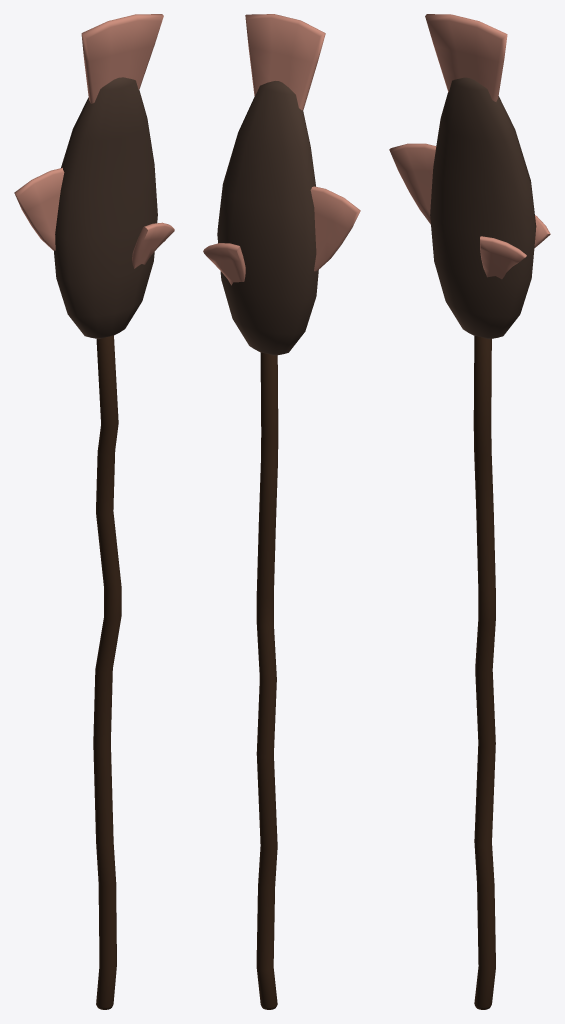
The model's file is skewered-fish.obj.
The picture shows the model from 3 angles, left to right: view 1: azimuth 30°, elevation 25°; view 2: azimuth 150°, elevation 25°; view 3: azimuth 330°, elevation 25°; orthographic projection. The views are drawn at different scales.
Visible parts, largest first — view 1: FishBody_Sphere, Stick_Cylinder.001, FishTail_Cube.001, FishFin1_Cube.002, FishFin3_Cube.004; view 2: FishBody_Sphere, Stick_Cylinder.001, FishTail_Cube.001, FishFin1_Cube.002, FishFin2_Cube.003; view 3: FishBody_Sphere, Stick_Cylinder.001, FishTail_Cube.001, FishFin1_Cube.002, FishFin3_Cube.004.
Part boxes in pixels (x1,y1,x2,y2): FishBody_Sphere: (54,77,157,339); Stick_Cylinder.001: (93,335,121,1009); FishTail_Cube.001: (81,14,163,103); FishFin1_Cube.002: (14,167,64,250); FishFin3_Cube.004: (132,222,174,268); FishBody_Sphere: (217,81,318,355); Stick_Cylinder.001: (256,352,278,1009); FishTail_Cube.001: (245,14,325,110); FishFin1_Cube.002: (310,186,360,271); FishFin2_Cube.003: (203,243,245,285); FishBody_Sphere: (430,77,536,339); Stick_Cylinder.001: (473,336,495,1009); FishTail_Cube.001: (425,14,507,101); FishFin1_Cube.002: (389,143,436,224); FishFin3_Cube.004: (480,236,526,279).
Size of the model in its own units: 0.1929 by 1.25 by 0.0983.
